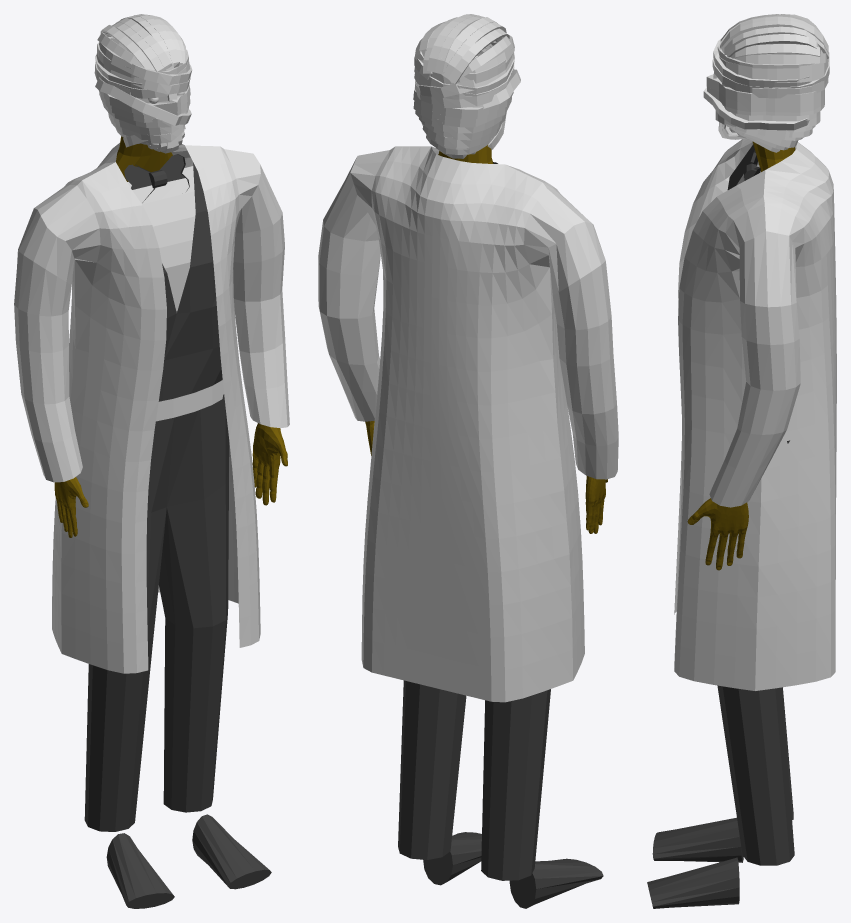
The model's file is Lester.fbx.
3 renders of one model, left to right at view 1: azimuth 30°, elevation 25°; view 2: azimuth 150°, elevation 25°; view 3: azimuth 270°, elevation 25°, orthographic. The views are drawn at different scales.
Visible parts, largest first — view 1: pCylinder35; view 2: pCylinder35; view 3: pCylinder35.
Part boxes in pixels (bbox=[...]): pCylinder35: bbox=[14, 14, 289, 908]; pCylinder35: bbox=[318, 14, 618, 908]; pCylinder35: bbox=[647, 14, 836, 908].
Bounding box in the file's own units: 19.9 × 59.56 × 11.88.
